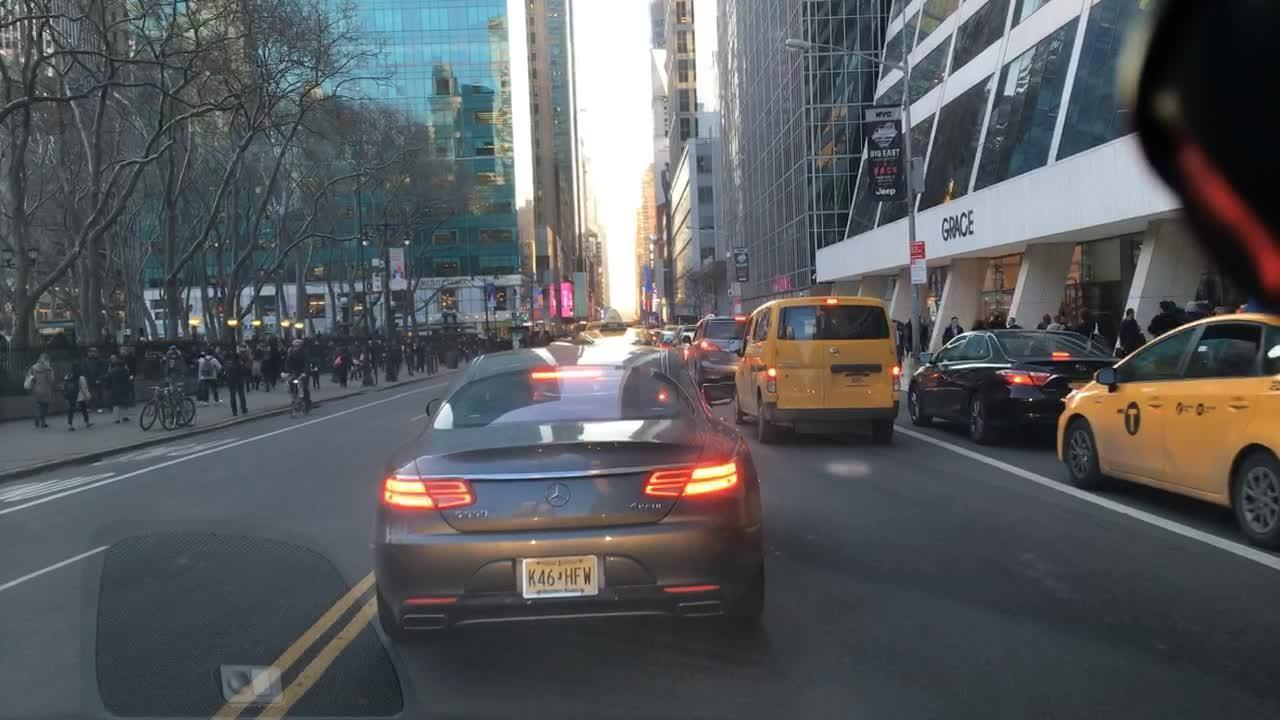Mercedes: (541, 475, 582, 519)
